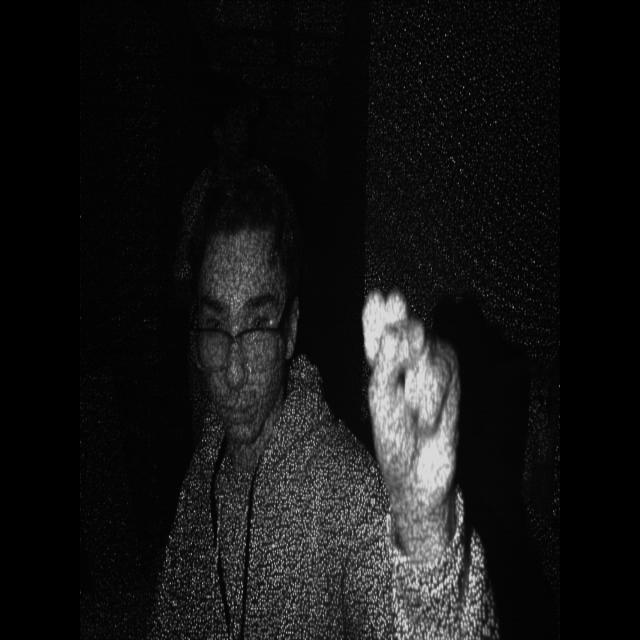S: (345, 272, 468, 486)
